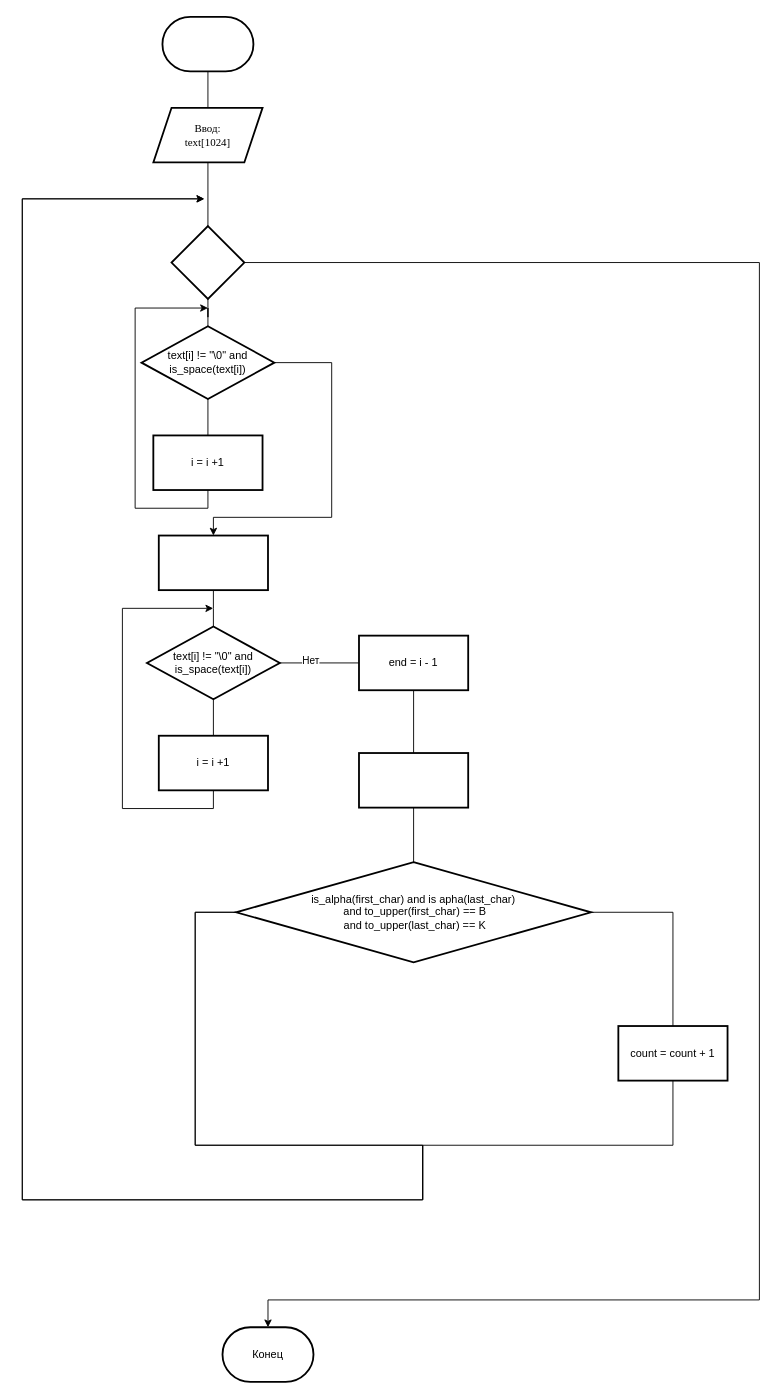
Some shapes in this 783 by 1398 pixel diagram are drawn without their labels. The box of each missing label's shape, as (x1, y1, x2, y2) in pixels:
last char = text[end]: (358, 752, 469, 808)
start = i first char = text[start]: (157, 534, 268, 591)
text[i] != "\0": (170, 225, 245, 299)
Начало: (161, 15, 254, 72)
